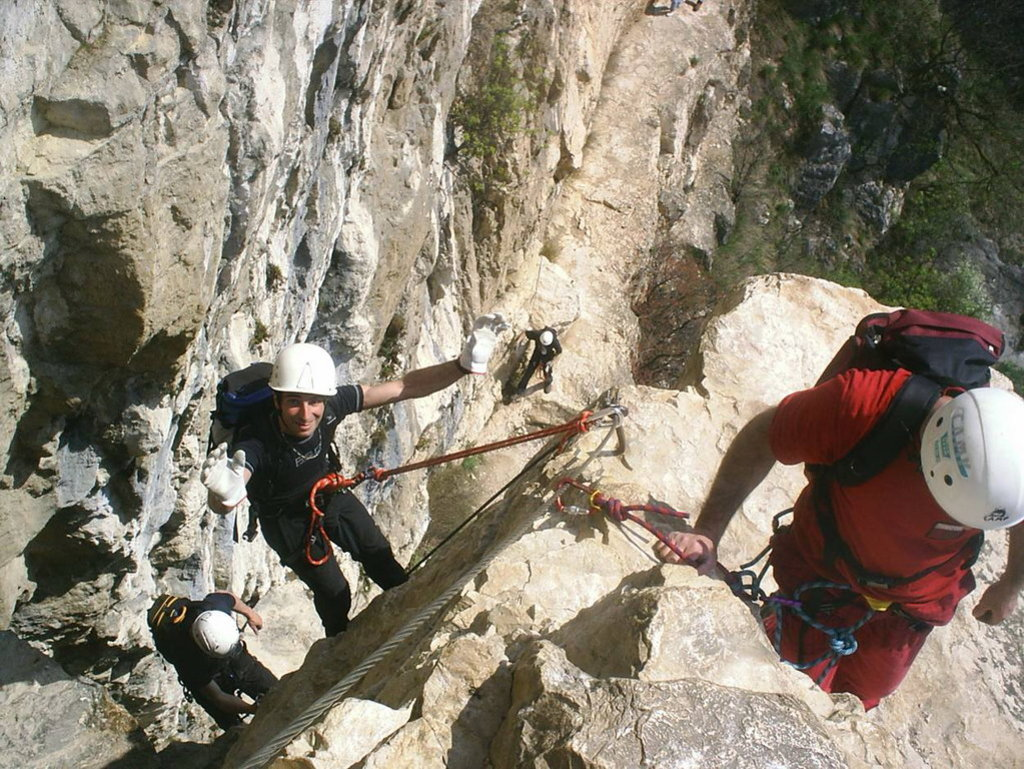Tree: (716, 0, 1024, 398)
